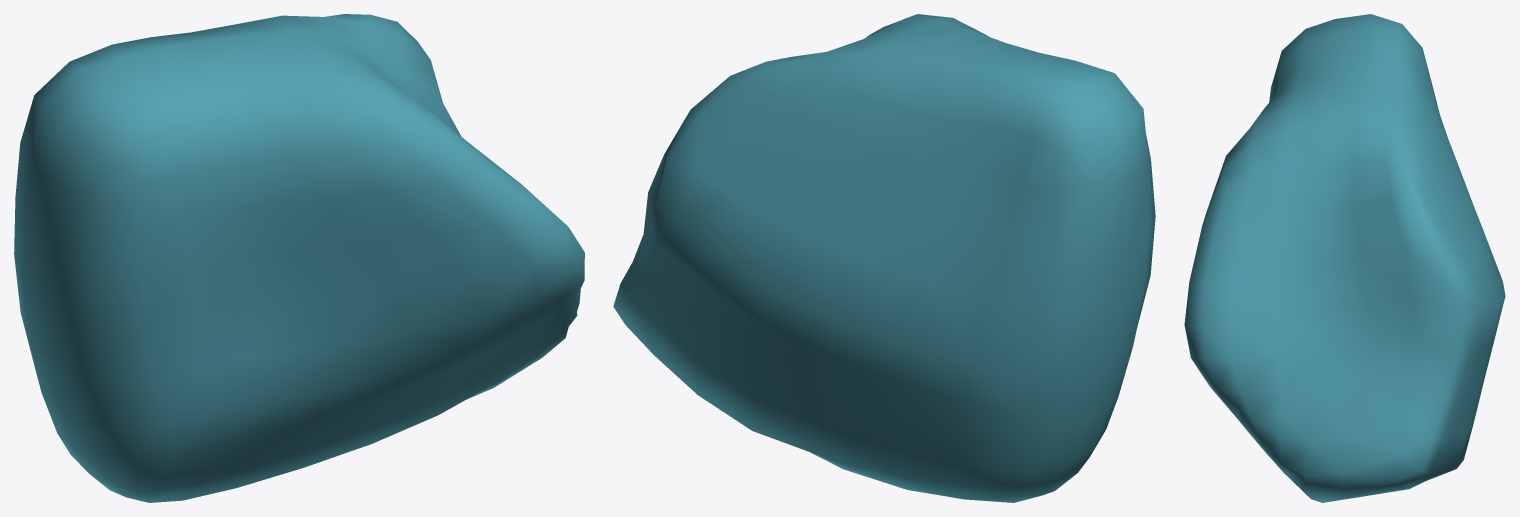
The model's file is VIS_Alpha_Surface_033.dae.
3 views of the same model, side by side, from view 1: azimuth 30°, elevation 25°; view 2: azimuth 150°, elevation 25°; view 3: azimuth 270°, elevation 25° (orthographic). The views are drawn at different scales.
Visible parts, largest first — view 1: VIS_Alpha_Surface_033; view 2: VIS_Alpha_Surface_033; view 3: VIS_Alpha_Surface_033.
Boxes of the visible parts, left/top/right/bottom form: VIS_Alpha_Surface_033: left=14, top=14, right=584, bottom=502; VIS_Alpha_Surface_033: left=613, top=14, right=1155, bottom=502; VIS_Alpha_Surface_033: left=1184, top=14, right=1505, bottom=502.
Size of the model in its own units: 11.6 by 7.51 by 9.84.
